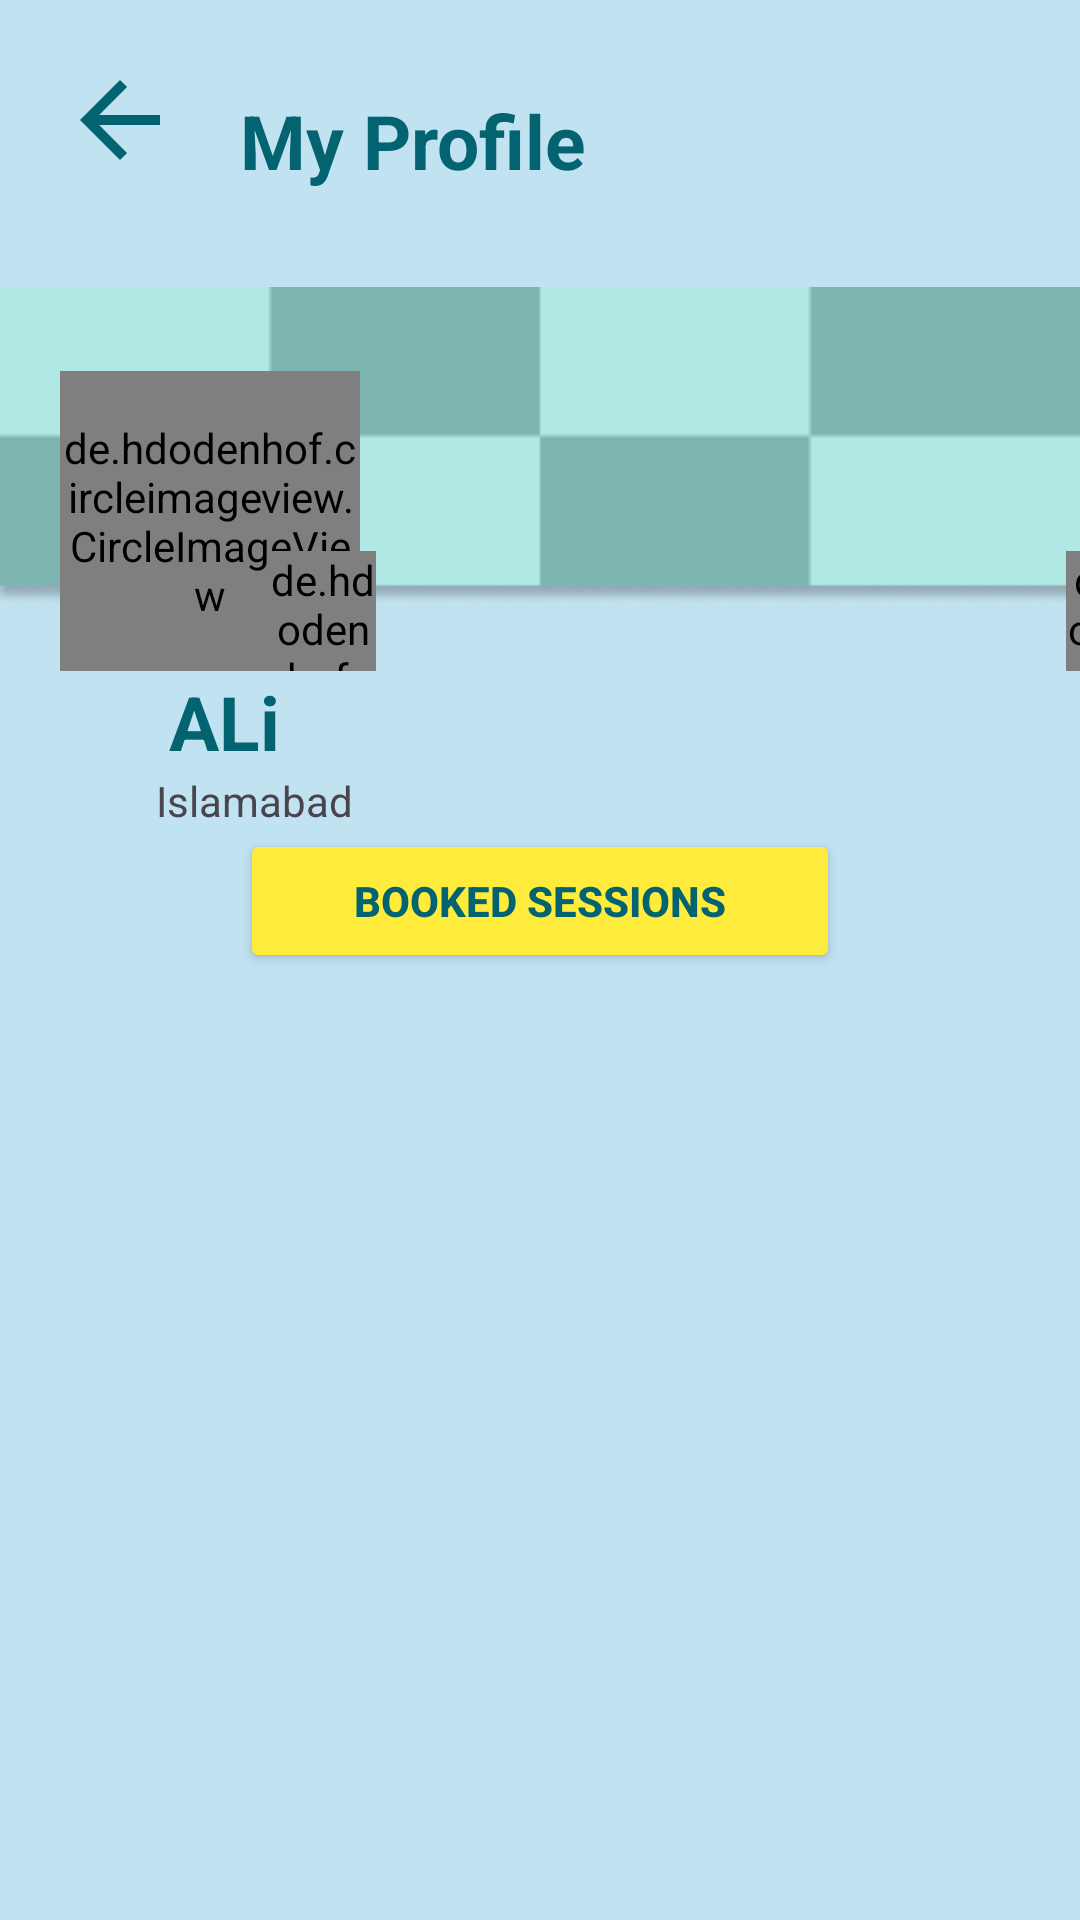

Screen size 1080 × 1920. Icon name, then its center in pixels as point (x, y):
back arrow: point (120, 120)
